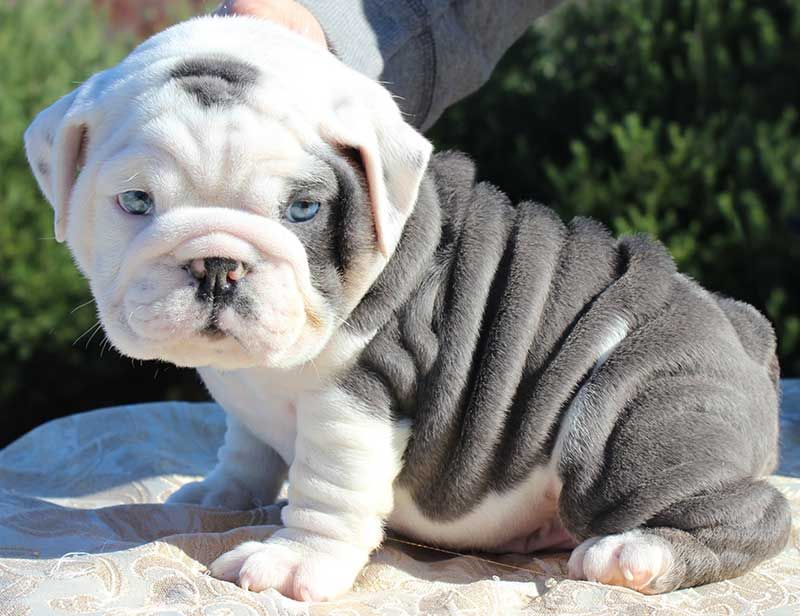dog: (24, 17, 800, 599)
